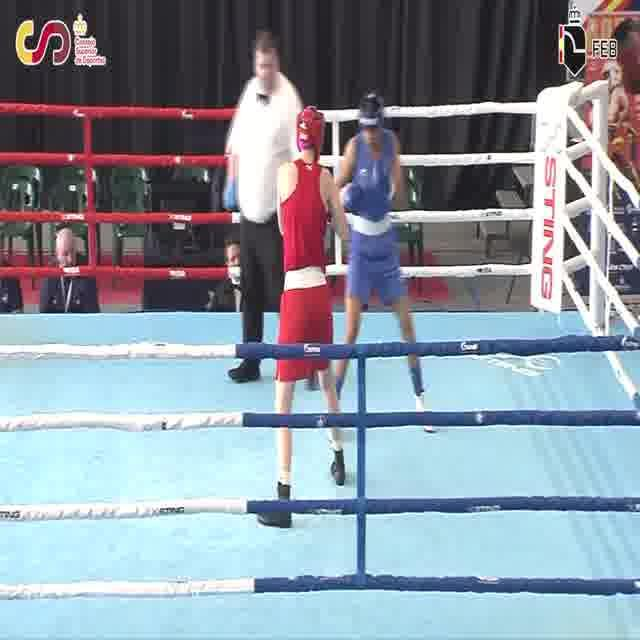blue-player: (328, 88, 438, 441)
red-player: (254, 104, 349, 531)
referee: (218, 24, 328, 390)
